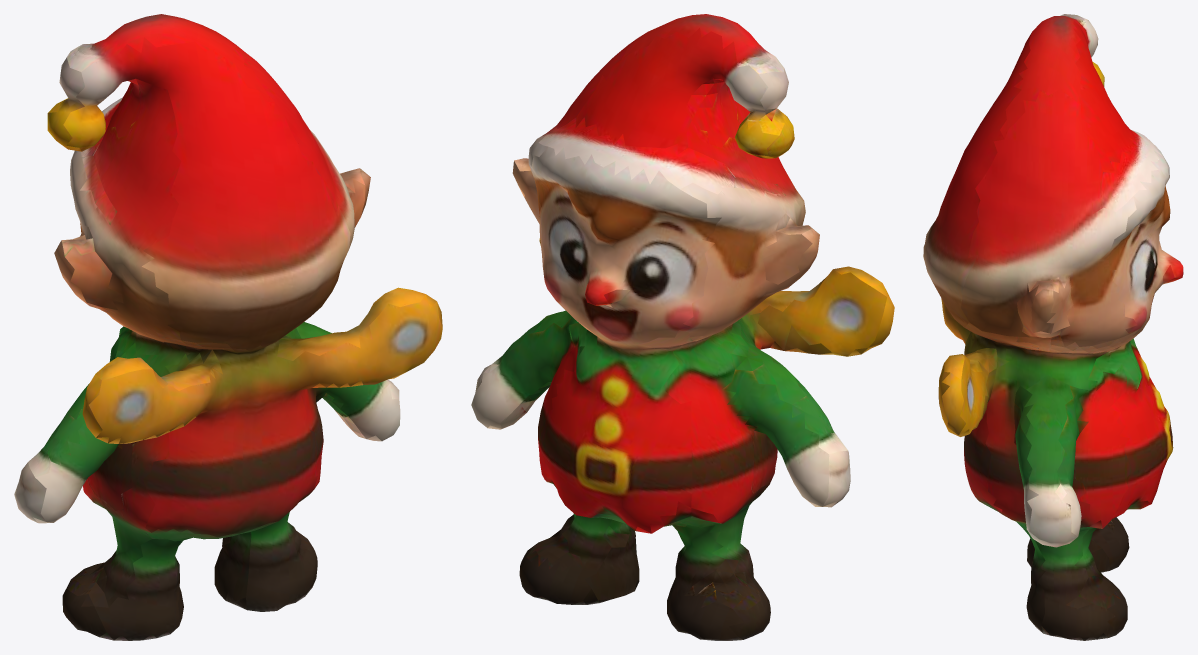
File: toy-elf-toon-raw.glb
3 renders of one model, left to right at view 1: azimuth 30°, elevation 25°; view 2: azimuth 150°, elevation 25°; view 3: azimuth 270°, elevation 25°, orthographic. The views are drawn at different scales.
Parts seen in each view (by area): view 1: world; view 2: world; view 3: world.
Part boxes in pixels (x1,y1,x2,y2): world: (14,14,442,640); world: (471,14,894,640); world: (923,14,1183,640).
Bounding box in the file's own units: 0.6003 × 0.9352 × 0.4006.
1 material, 1 textured.
